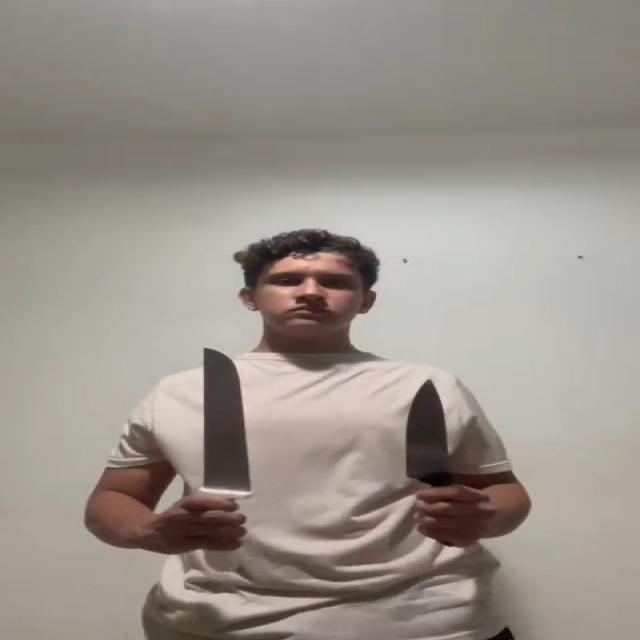knife: (196, 344, 252, 498), (402, 382, 452, 484)
